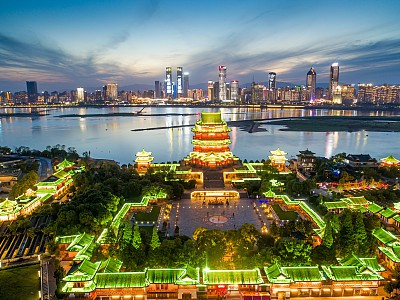Teng: (180, 111, 239, 166)
